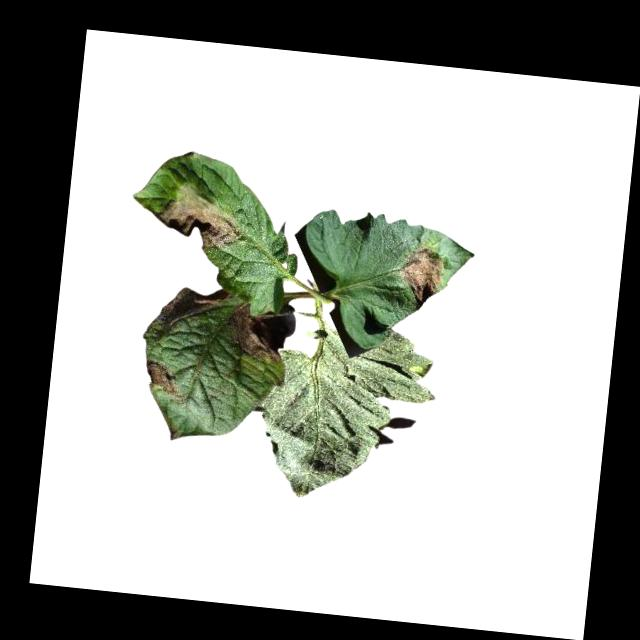Late_blight: (150, 181, 245, 257), (154, 280, 233, 329), (231, 303, 284, 364), (397, 245, 446, 309), (140, 357, 176, 401)
